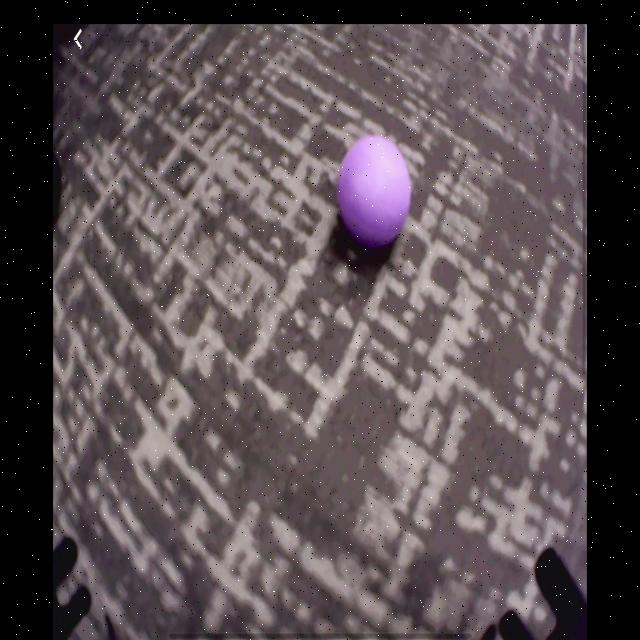ball: (339, 134, 411, 247)
